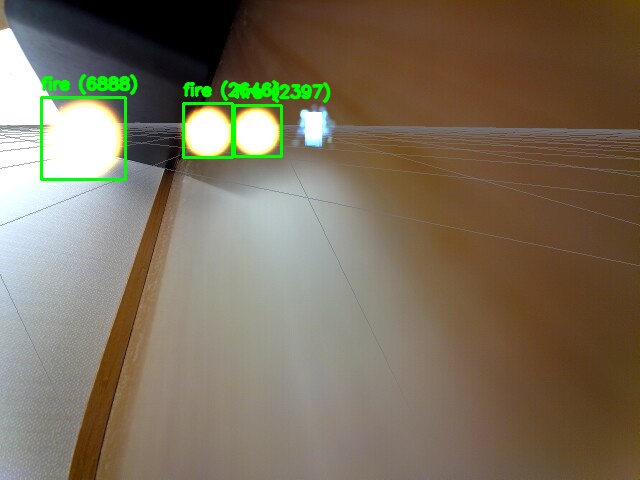fire: (41, 97, 125, 179), (183, 103, 232, 157), (234, 105, 281, 156)
